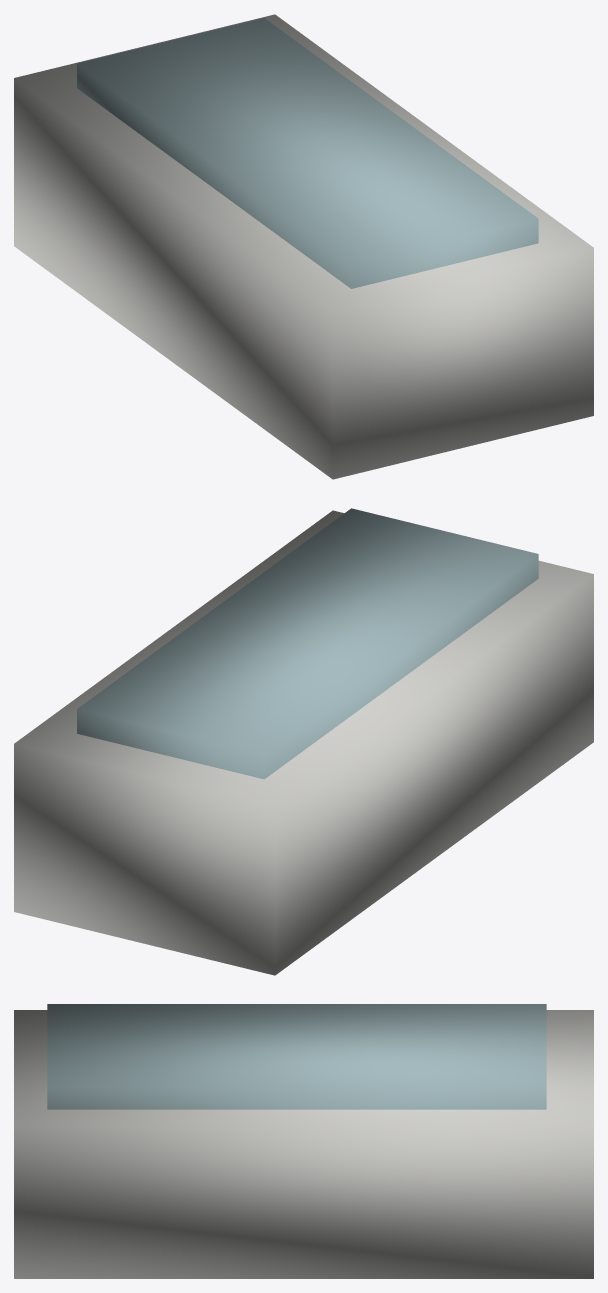
The model's file is bathtub.glb.
3 renders of one model, top to bottom at view 1: azimuth 30°, elevation 25°; view 2: azimuth 150°, elevation 25°; view 3: azimuth 270°, elevation 25°, orthographic. The views are drawn at different scales.
Parts seen in each view (by area): view 1: world; view 2: world; view 3: world.
Part boxes in pixels (x1=…): world: x1=14, y1=14, x2=593, y2=479; world: x1=14, y1=508, x2=593, y2=975; world: x1=14, y1=1004, x2=593, y2=1278.
Bounding box in the file's own units: 0.78 × 0.55 × 1.65.
